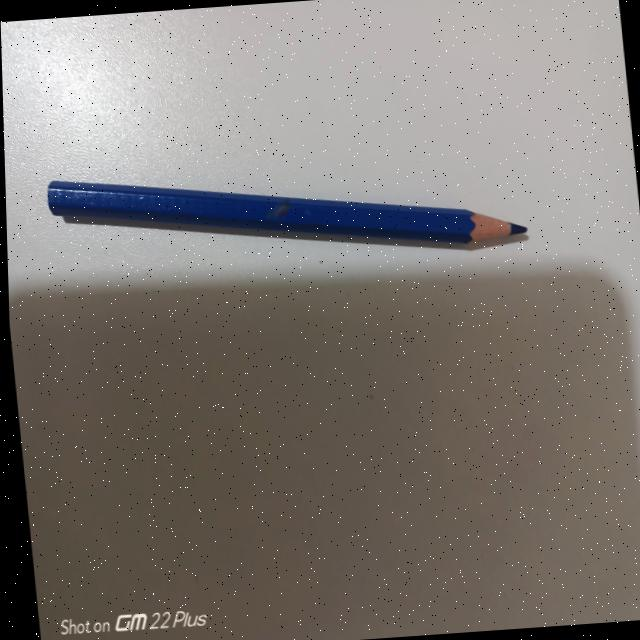pencil: (41, 136, 534, 300)
